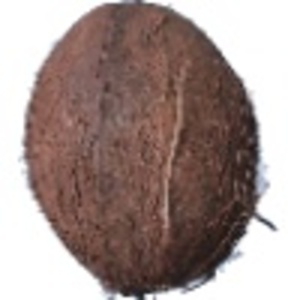coco: (19, 1, 276, 300)
